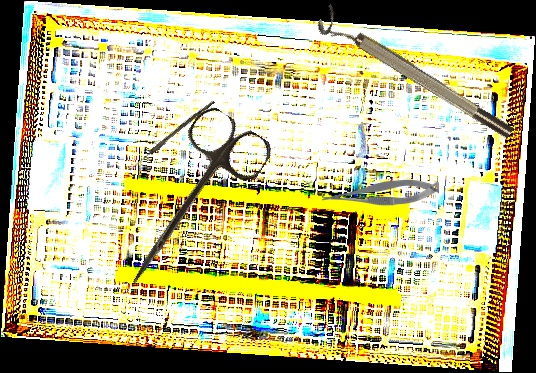Fixation Ring: (313, 3, 517, 151)
Iris Scissors: (102, 101, 277, 308)
Micro Scissor: (322, 179, 439, 206)
Surgical Spoon: (128, 98, 215, 173)
